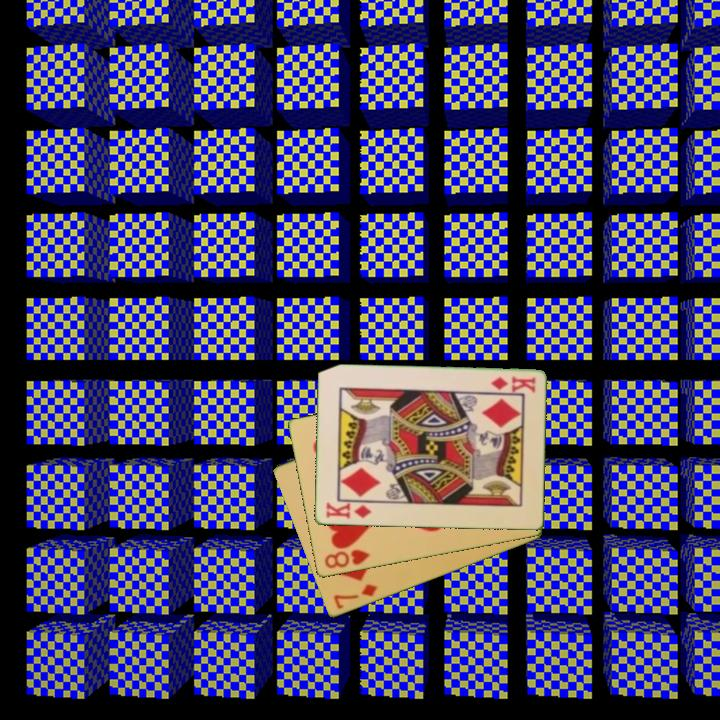7d: (330, 581, 380, 612)
8h: (321, 546, 373, 572)
Kd: (322, 499, 374, 522), (487, 373, 538, 395)
